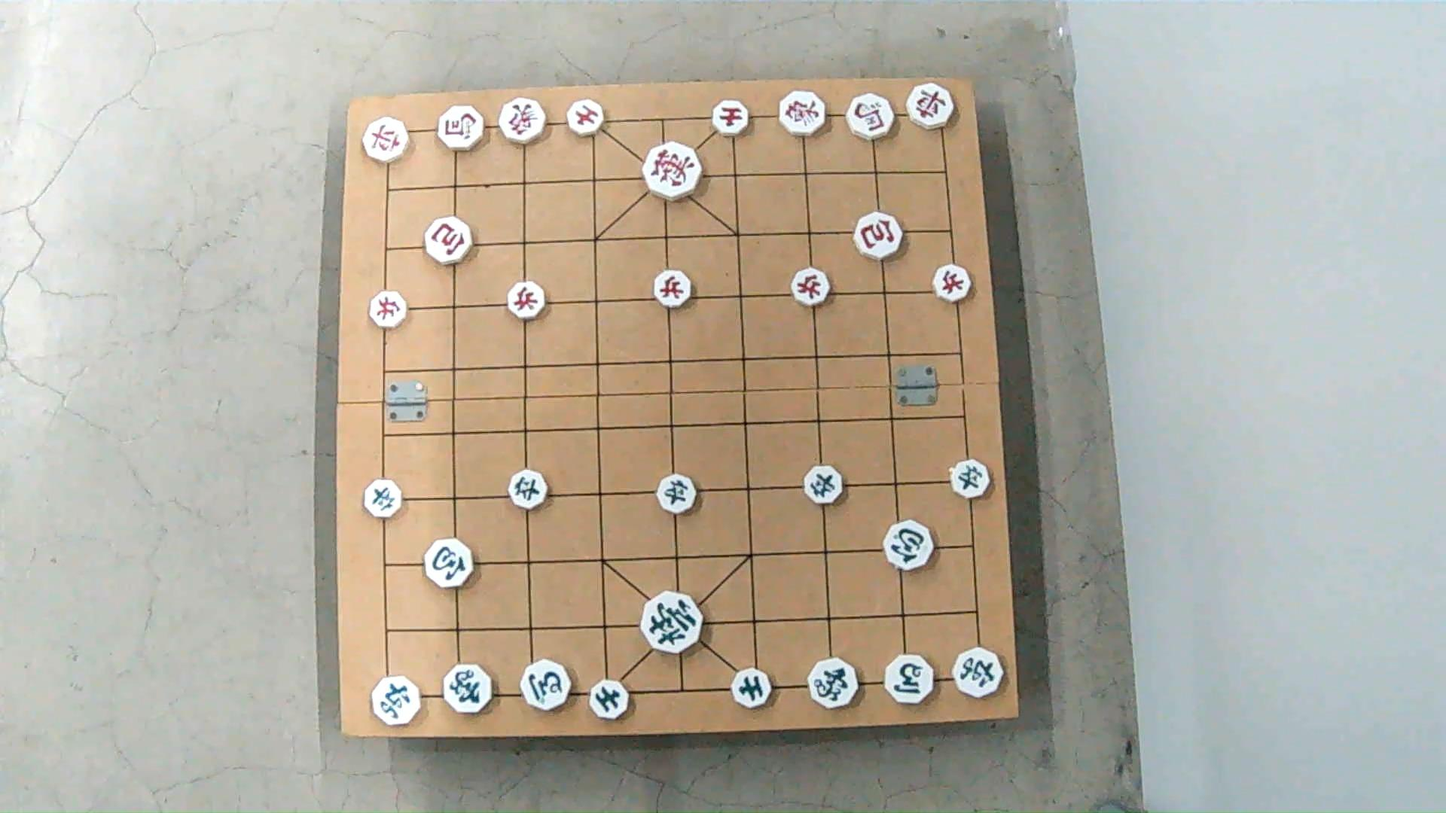cha_green: (951, 645, 1006, 700), (372, 680, 426, 726)
cha_red: (905, 84, 958, 127), (362, 120, 412, 161)
jol_green: (654, 475, 700, 510), (508, 473, 552, 509), (801, 470, 845, 505), (948, 462, 993, 495), (362, 480, 405, 513)
jol_red: (650, 272, 692, 306), (792, 270, 834, 304), (934, 266, 976, 300), (505, 285, 546, 319), (371, 294, 413, 327)
ma_green: (521, 662, 574, 710), (883, 657, 938, 703)
ma_red: (847, 93, 900, 141), (435, 109, 485, 151)
po_green: (883, 525, 937, 569), (425, 544, 477, 589)
po_red: (856, 215, 906, 257), (426, 218, 474, 261)
sa_green: (731, 668, 773, 707), (590, 680, 630, 715)
sa_red: (712, 99, 752, 136), (566, 101, 607, 136)
sang_green: (806, 656, 862, 705), (443, 665, 497, 712)
sang_red: (779, 95, 831, 137), (498, 102, 548, 145)
wang_green: (641, 596, 705, 652)
wang_red: (642, 148, 700, 199)
